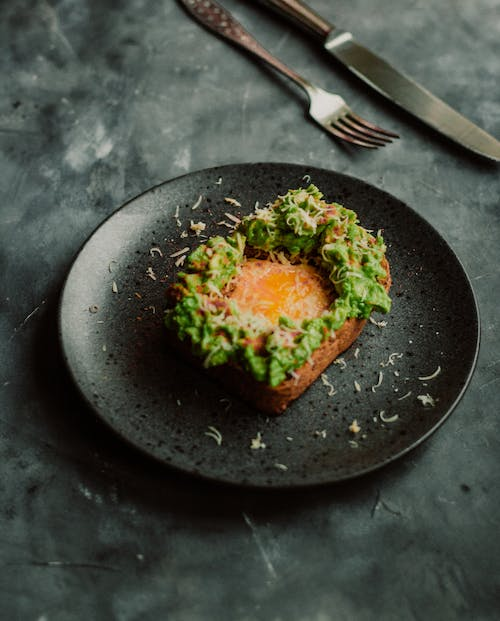knife: (231, 0, 500, 163)
